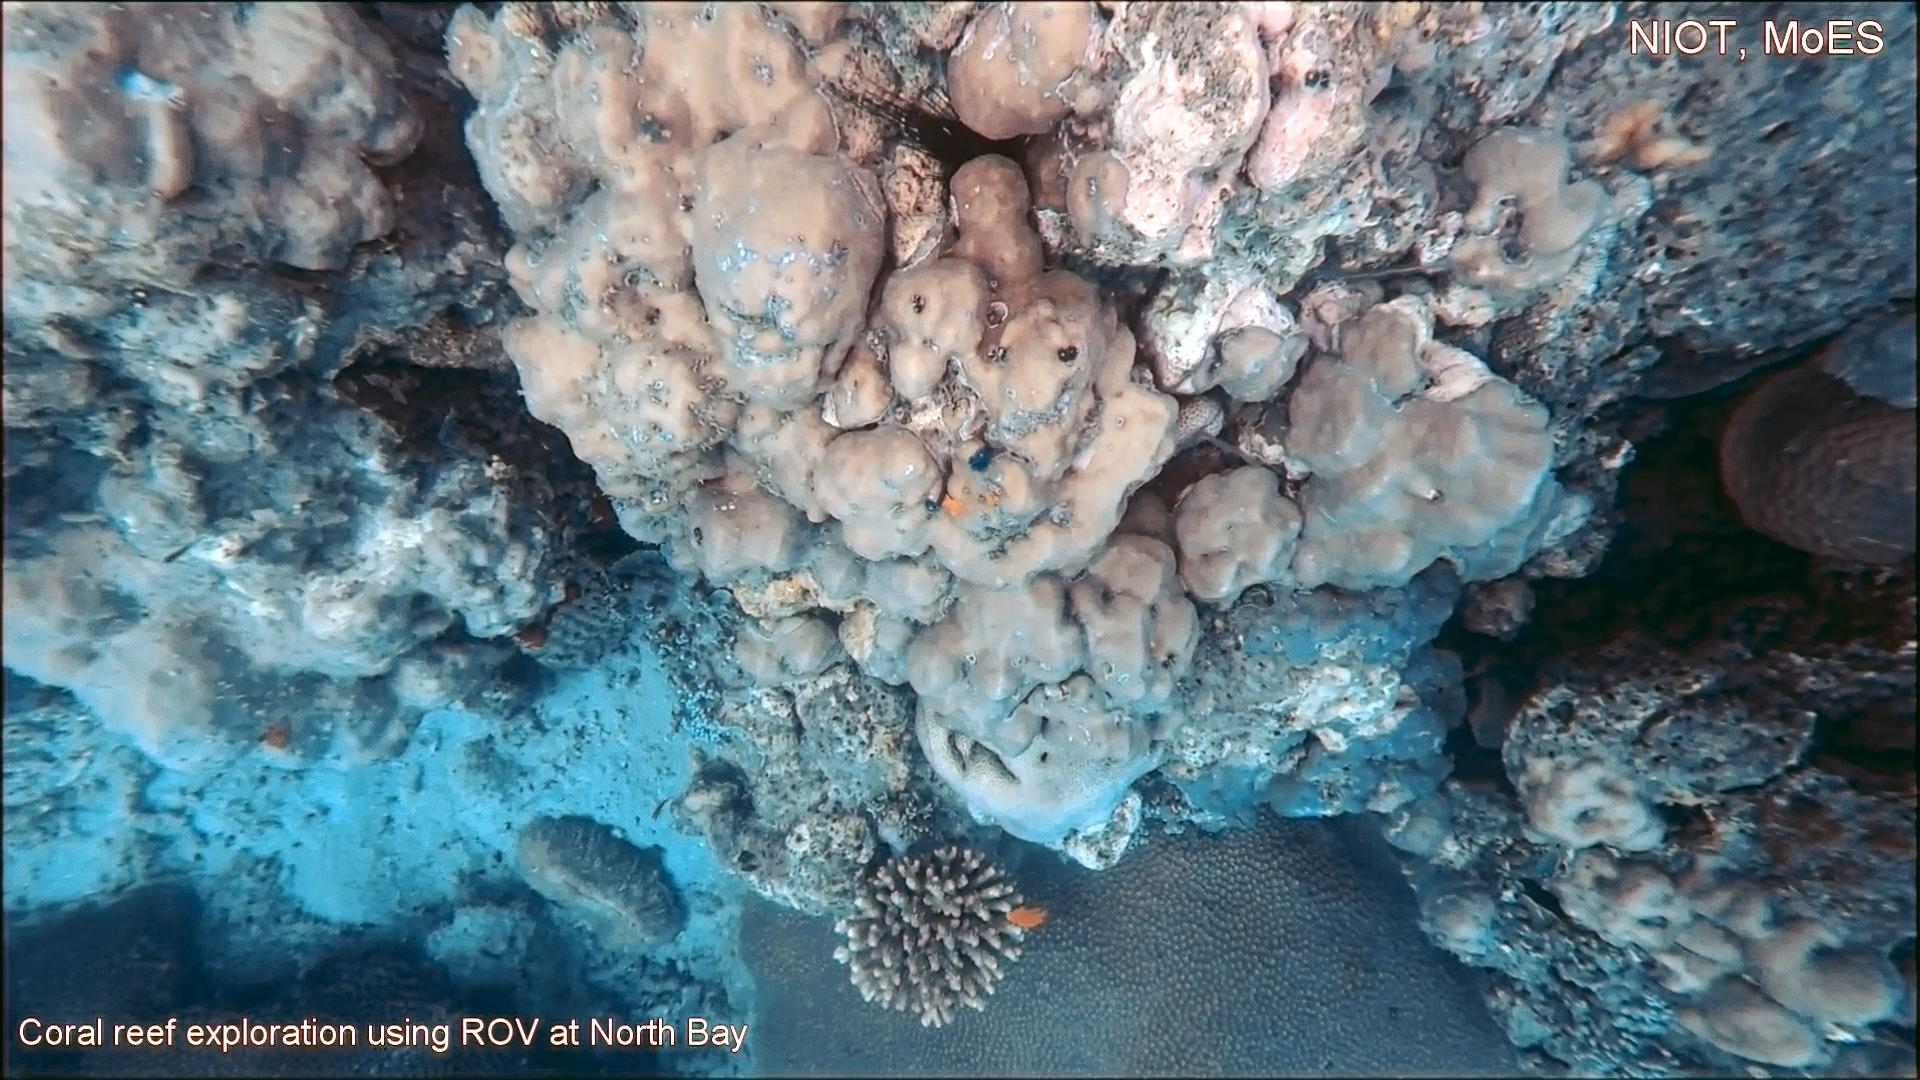Meandrina meandrites: (1710, 351, 1920, 576)
